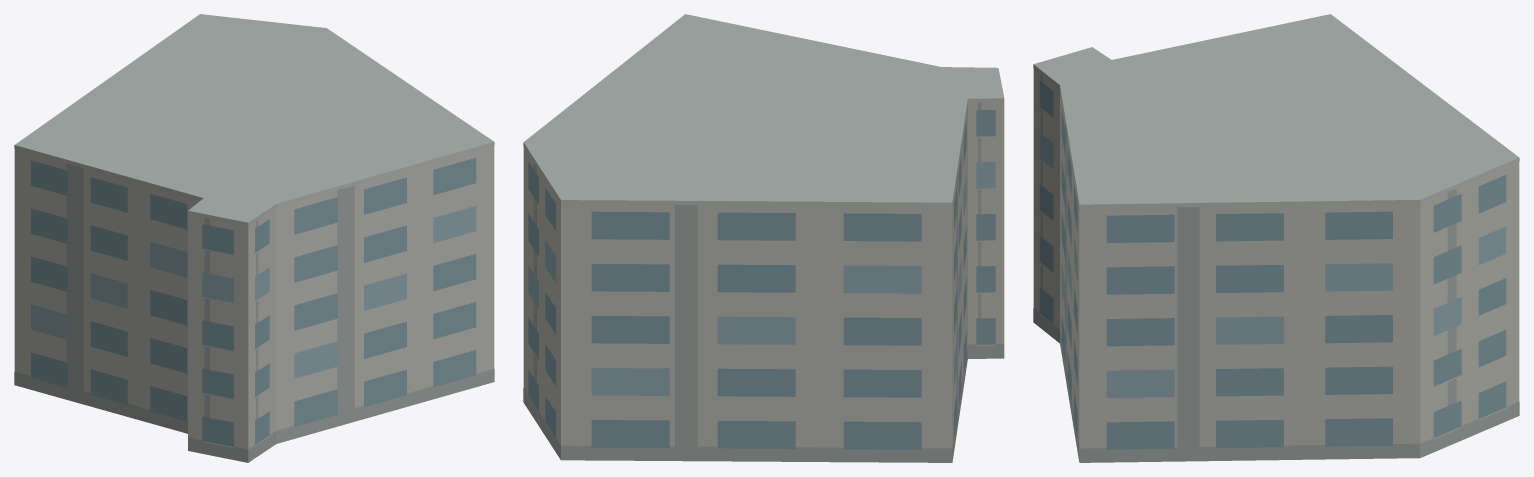
Rendered from survey-upis-32962266.glb.
The picture shows the model from 3 angles, left to right: view 1: azimuth 30°, elevation 25°; view 2: azimuth 150°, elevation 25°; view 3: azimuth 270°, elevation 25°; orthographic projection. The views are drawn at different scales.
Visible parts, largest first — view 1: survey-upis-32962266.tmp; view 2: survey-upis-32962266.tmp; view 3: survey-upis-32962266.tmp.
Part boxes in pixels (x1,y1,x2,y2): survey-upis-32962266.tmp: (14, 14, 494, 462); survey-upis-32962266.tmp: (523, 14, 1004, 462); survey-upis-32962266.tmp: (1033, 14, 1519, 462).
Size of the model in its own units: 24.15 by 15.25 by 26.01.
